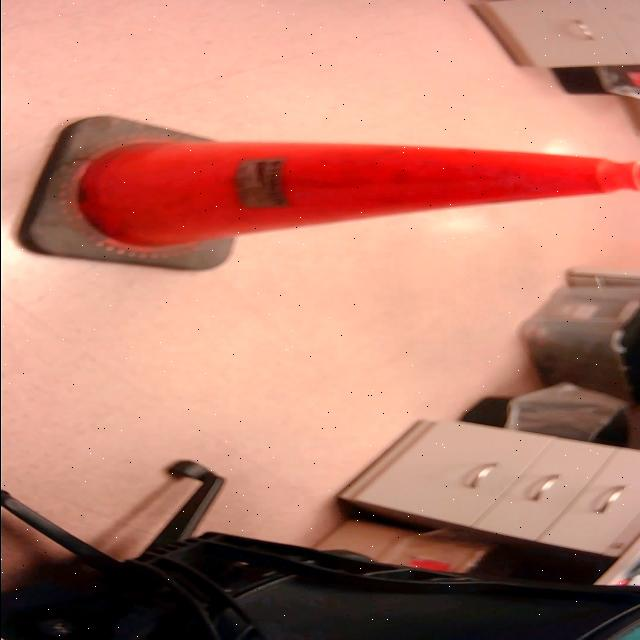traffic cone: (11, 111, 640, 279)
